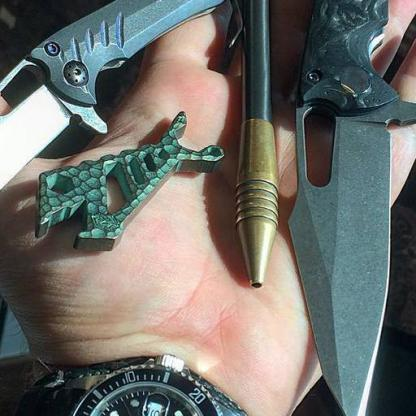knife: (0, 0, 257, 276), (284, 0, 416, 415)
